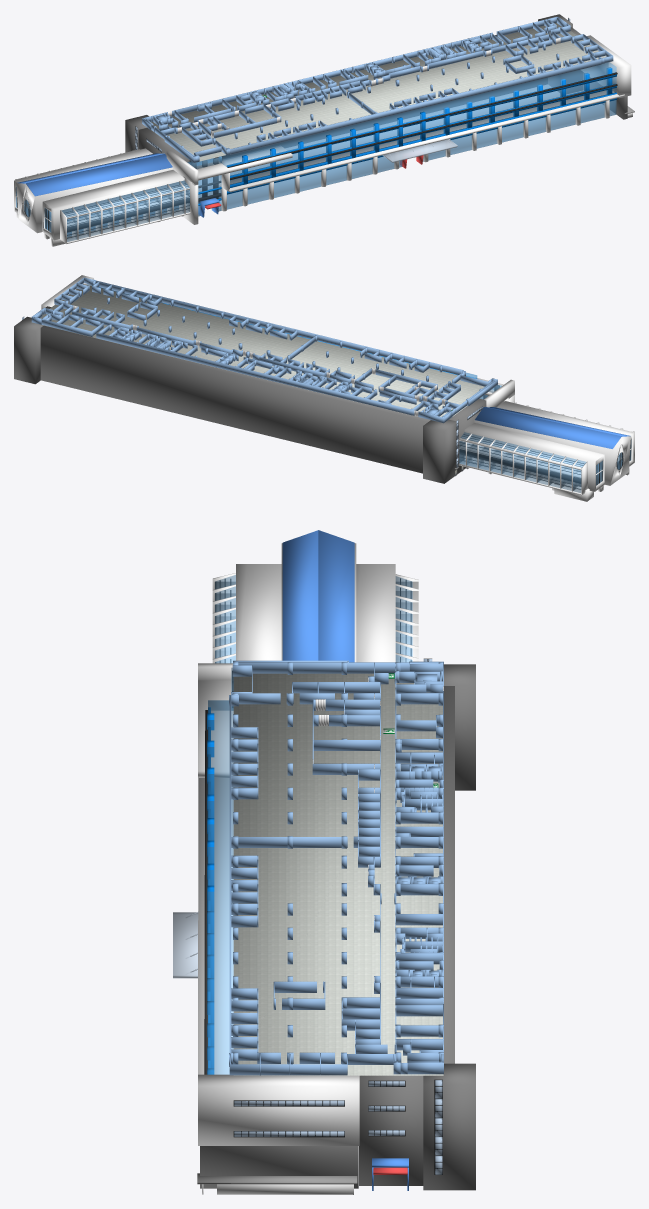
Rendered from ob_6f_mini.gltf.
3 renders of one model, top to bottom at view 1: azimuth 30°, elevation 25°; view 2: azimuth 150°, elevation 25°; view 3: azimuth 270°, elevation 25°, orthographic. The views are drawn at different scales.
Visible parts, largest first — view 1: ob_dimian_6f, ob_waiguan_6f_210, ob_waiguan_6f_21, ob_waiguan_6f_48, ob_waiguan_6f_207, ob_waiguan_6f_41, ob_qiang_6f_340, ob_waiguan_6f_40, ob_waiguan_6f_109, ob_waiguan_6f_35, ob_waiguan_6f_208, ob_waiguan_6f_145 (+25 smaller); view 2: ob_waiguan_6f_35, ob_dimian_6f, ob_waiguan_6f_29, ob_waiguan_6f_206, ob_waiguan_6f_98, ob_waiguan_6f_173, ob_qiang_6f_104, ob_qiang_6f_344, ob_waiguan_6f_184, ob_waiguan_6f_208, ob_waiguan_6f_207, ob_waiguan_6f_101 (+8 smaller); view 3: ob_dimian_6f, ob_waiguan_6f_45, ob_waiguan_6f_210, ob_waiguan_6f_48, ob_waiguan_6f_182, ob_waiguan_6f_184, ob_waiguan_6f_181, ob_waiguan_6f_98, ob_waiguan_6f_109, ob_waiguan_6f_207, ob_waiguan_6f_35, ob_waiguan_6f_206 (+13 smaller).
Boxes of the visible parts, x1,y1,x2,y2 form: ob_dimian_6f: [151, 23, 605, 161]; ob_waiguan_6f_210: [219, 62, 616, 184]; ob_waiguan_6f_21: [61, 180, 189, 241]; ob_waiguan_6f_48: [229, 90, 624, 192]; ob_waiguan_6f_207: [42, 170, 184, 240]; ob_waiguan_6f_41: [422, 100, 616, 161]; ob_qiang_6f_340: [231, 59, 601, 154]; ob_waiguan_6f_40: [227, 156, 402, 209]; ob_waiguan_6f_109: [26, 154, 172, 196]; ob_waiguan_6f_35: [189, 25, 547, 165]; ob_waiguan_6f_208: [16, 167, 172, 233]; ob_waiguan_6f_145: [230, 83, 616, 180]; ob_waiguan_6f_35: [40, 325, 430, 473]; ob_dimian_6f: [31, 284, 484, 416]; ob_waiguan_6f_29: [459, 432, 586, 492]; ob_waiguan_6f_206: [464, 423, 604, 491]; ob_waiguan_6f_98: [475, 407, 621, 448]; ob_waiguan_6f_173: [423, 419, 457, 483]; ob_qiang_6f_104: [96, 332, 414, 415]; ob_qiang_6f_344: [95, 281, 462, 374]; ob_waiguan_6f_184: [14, 316, 43, 384]; ob_waiguan_6f_208: [474, 420, 630, 485]; ob_waiguan_6f_207: [497, 401, 634, 469]; ob_waiguan_6f_101: [458, 435, 584, 470]; ob_dimian_6f: [233, 673, 443, 1075]; ob_waiguan_6f_45: [198, 1074, 359, 1145]; ob_waiguan_6f_210: [207, 700, 233, 1074]; ob_waiguan_6f_48: [198, 778, 233, 1074]; ob_waiguan_6f_182: [359, 1075, 423, 1185]; ob_waiguan_6f_184: [423, 1063, 475, 1190]; ob_waiguan_6f_181: [200, 1146, 358, 1188]; ob_waiguan_6f_98: [318, 530, 354, 662]; ob_waiguan_6f_109: [282, 530, 318, 660]; ob_waiguan_6f_207: [236, 564, 281, 660]; ob_waiguan_6f_35: [444, 686, 454, 1063]; ob_waiguan_6f_206: [356, 564, 395, 662].
Size of the model in its own units: 398 by 39.48 by 90.94.
24 materials, 10 textured.
